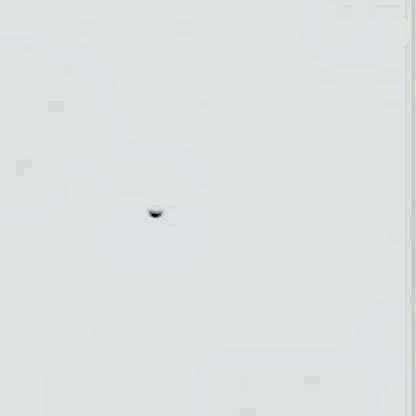golfball: (143, 204, 161, 215)
